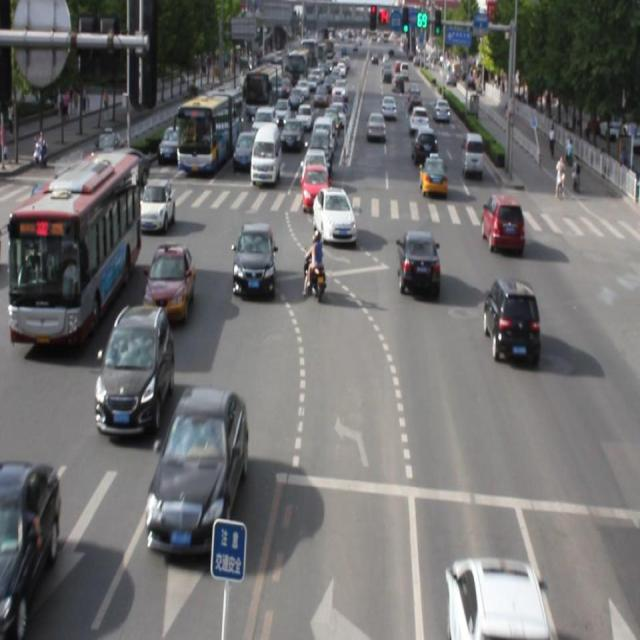car: (147, 388, 248, 554), (0, 455, 62, 632), (98, 305, 171, 435), (444, 554, 552, 640), (482, 277, 538, 363), (142, 242, 195, 317), (233, 220, 275, 297), (312, 183, 356, 244), (398, 228, 439, 292), (480, 192, 524, 251), (140, 180, 173, 232)
van: (10, 153, 139, 340)
